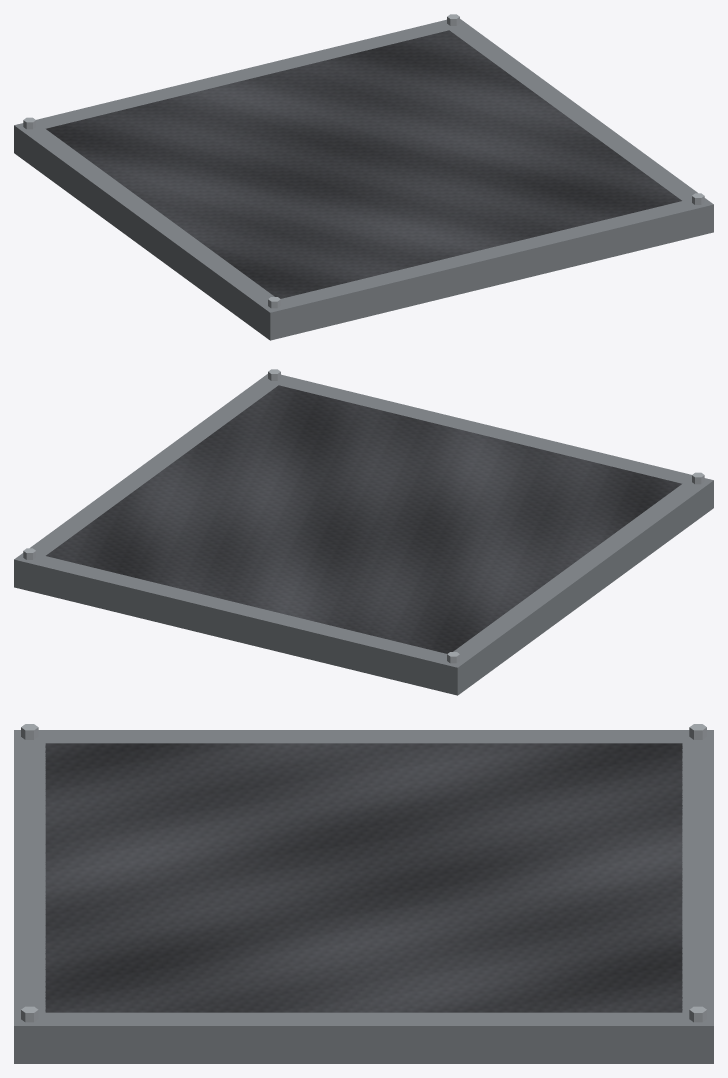
Rendered from floor_concrete_tile.glb.
3 renders of one model, top to bottom at view 1: azimuth 30°, elevation 25°; view 2: azimuth 150°, elevation 25°; view 3: azimuth 270°, elevation 25°, orthographic. The views are drawn at different scales.
Parts seen in each view (by area): view 1: Concrete_Center_Slab, Border_South, Border_West, Border_North, Border_East; view 2: Concrete_Center_Slab, Border_North, Border_West, Border_South, Border_East; view 3: Concrete_Center_Slab, Border_East, Border_North, Border_South, Border_West.
Part boxes in pixels (left/top/right/bottom): Concrete_Center_Slab: left=46, top=30, right=681, bottom=298; Border_South: left=258, top=198, right=713, bottom=340; Border_West: left=25, top=129, right=274, bottom=331; Border_North: left=14, top=19, right=468, bottom=161; Border_East: left=450, top=25, right=697, bottom=200; Concrete_Center_Slab: left=46, top=385, right=681, bottom=653; Border_North: left=14, top=553, right=469, bottom=695; Border_West: left=453, top=484, right=702, bottom=686; Border_South: left=259, top=374, right=713, bottom=516; Border_East: left=30, top=380, right=277, bottom=555; Concrete_Center_Slab: left=45, top=743, right=682, bottom=1012; Border_East: left=45, top=1012, right=682, bottom=1063; Border_North: left=682, top=730, right=713, bottom=1063; Border_South: left=14, top=730, right=45, bottom=1063; Border_West: left=45, top=730, right=682, bottom=743.
Size of the model in its own units: 2 by 0.15 by 2.
Materials: 3 (1 with a texture image).
